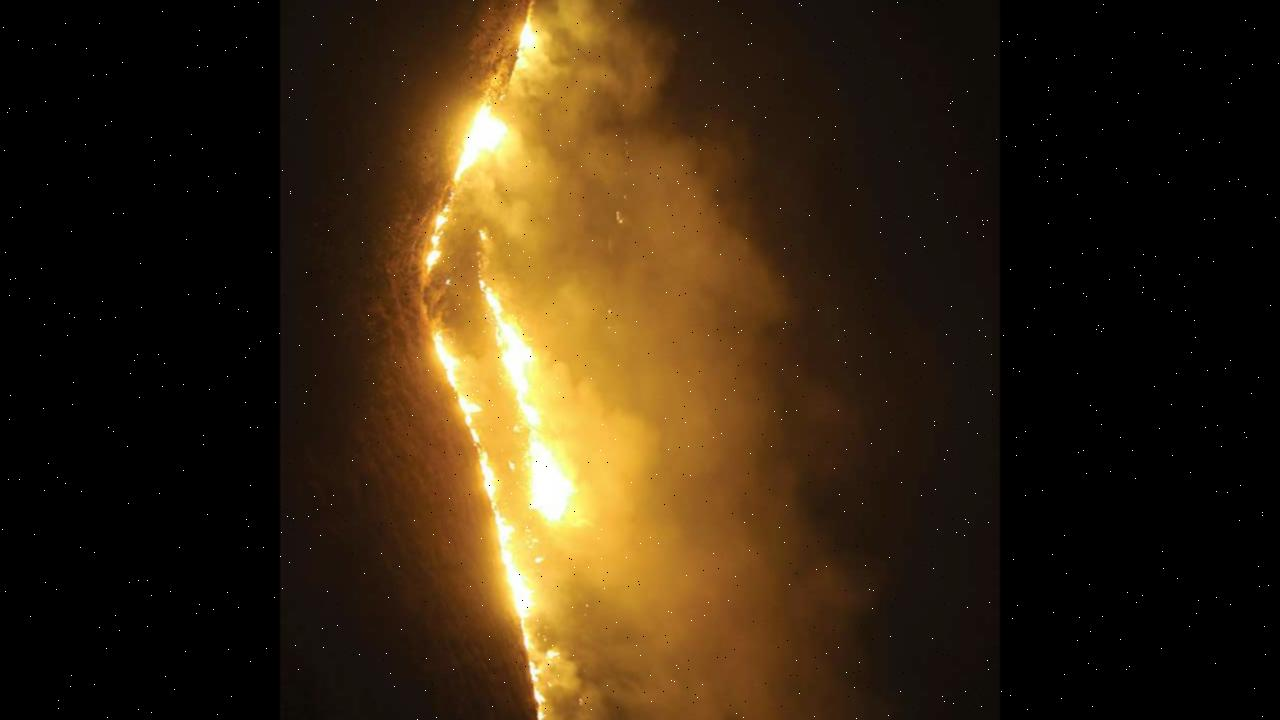fire: (401, 0, 607, 720)
